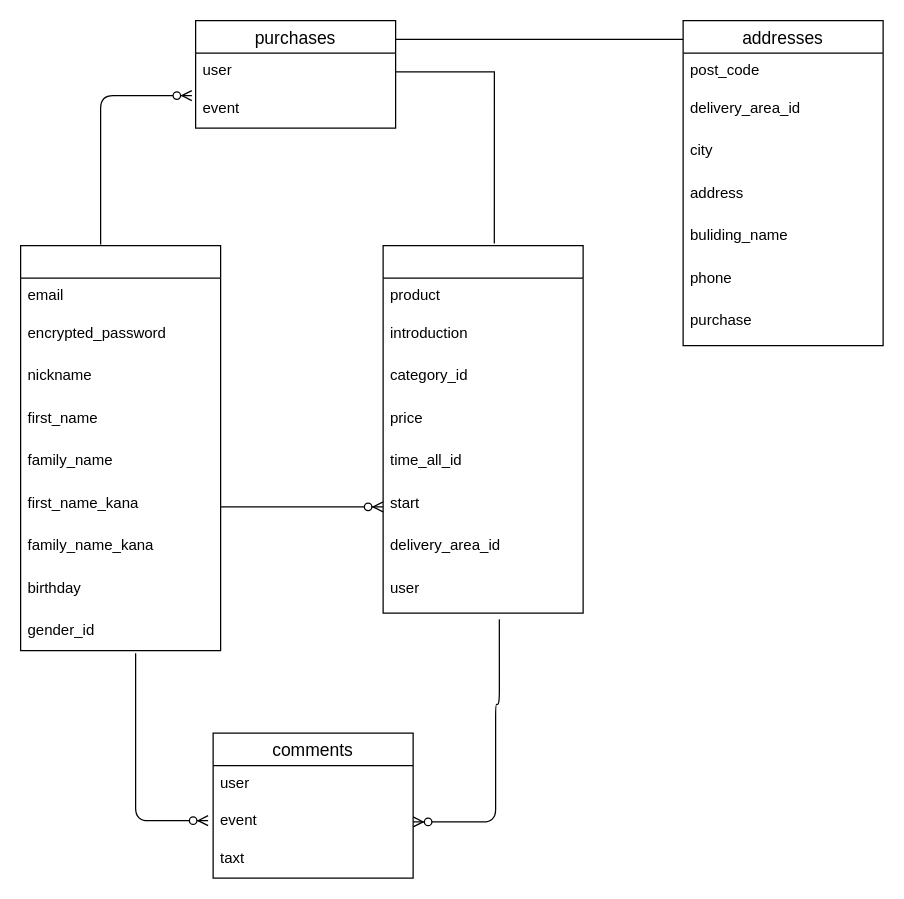
Image size: 904x899. Some labels were removed from this diagram. Each missing label, with the box of its shape:
events: (382, 244, 583, 613)
users: (19, 244, 221, 651)
